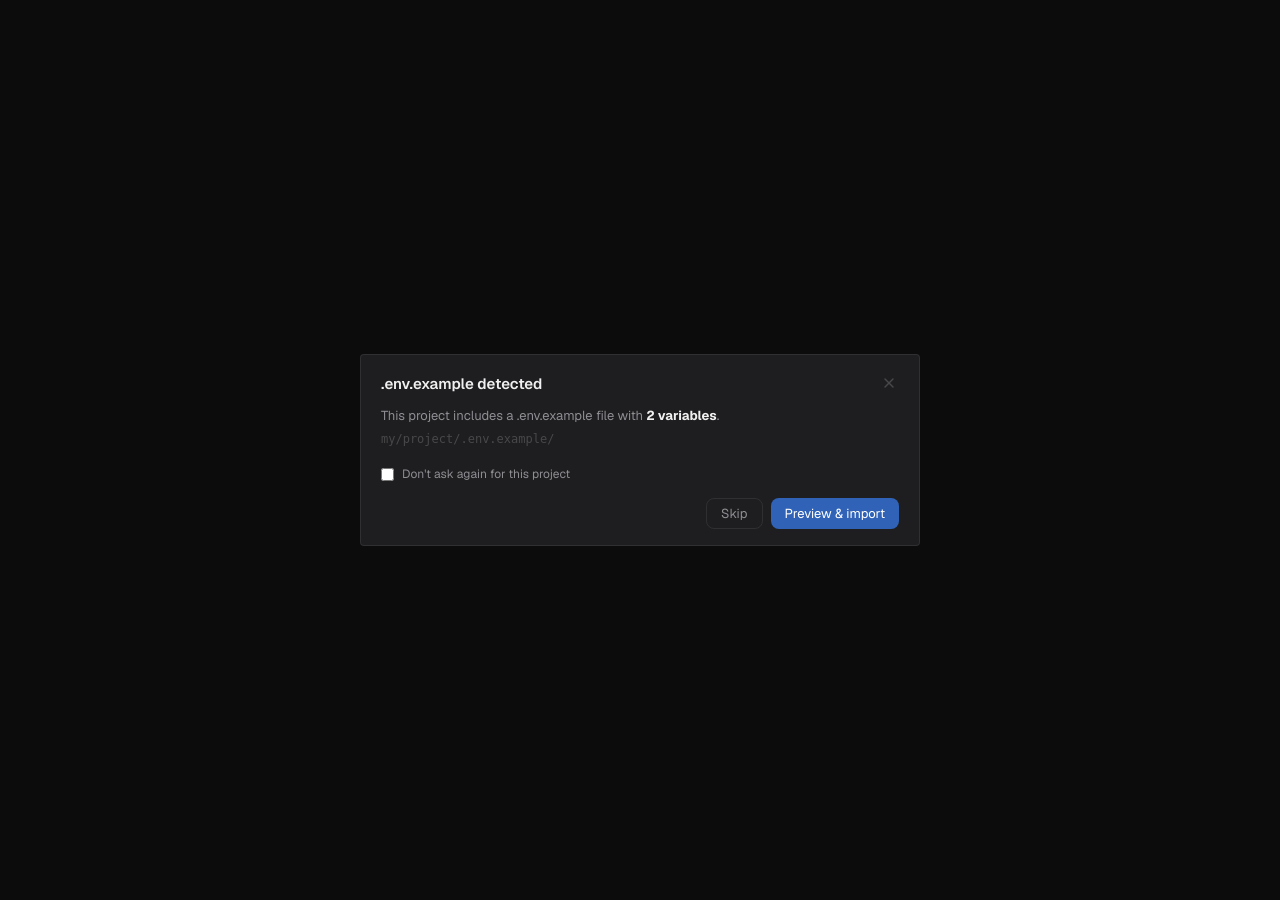
EnvExamplePromptDialog – prompt step › 3.6: "Use as Template" button advances to preview step
Click the button "Preview & import": [835, 514] box [770,498,899,529]
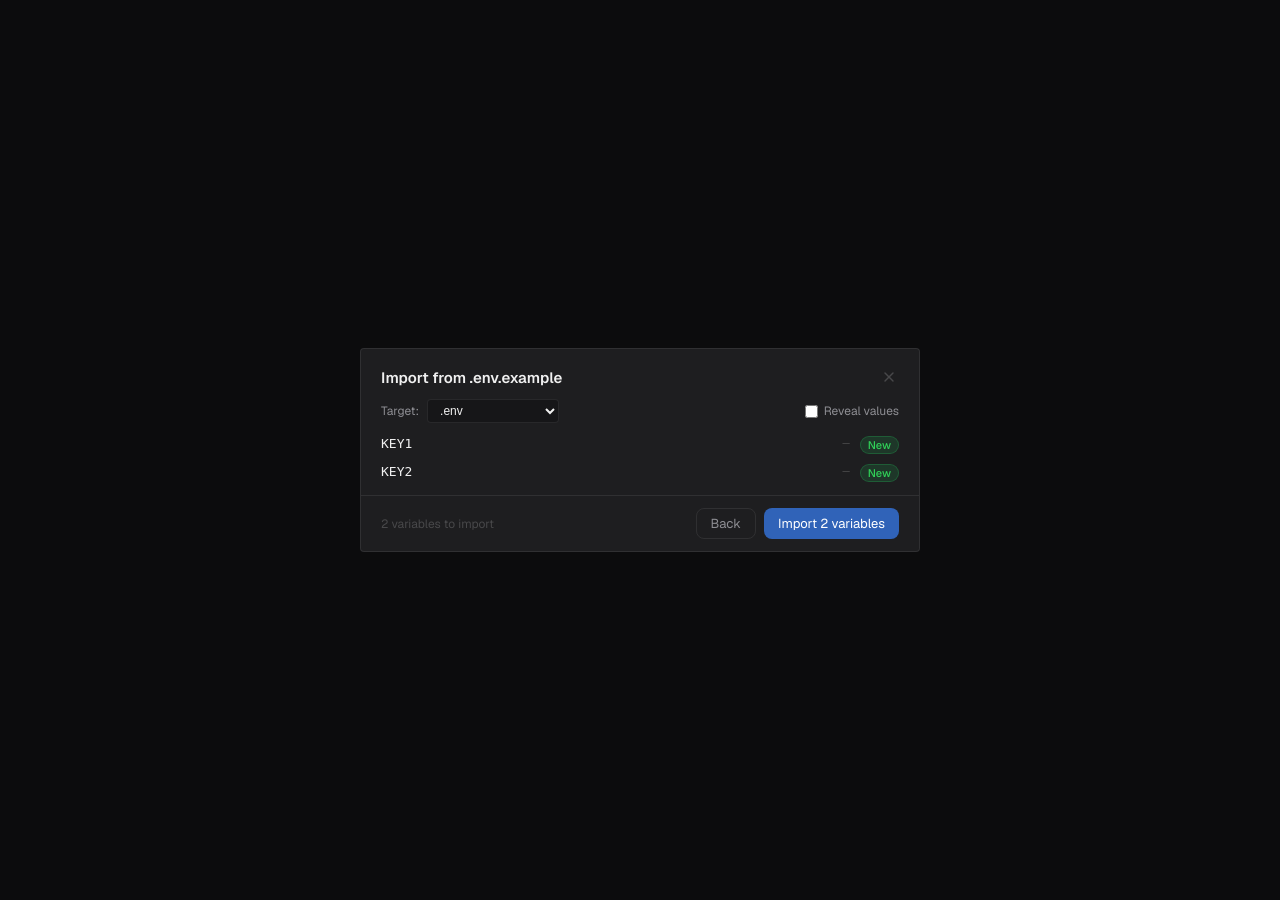
Check: the text "KEY1" is shown, box [381,436,412,451]
